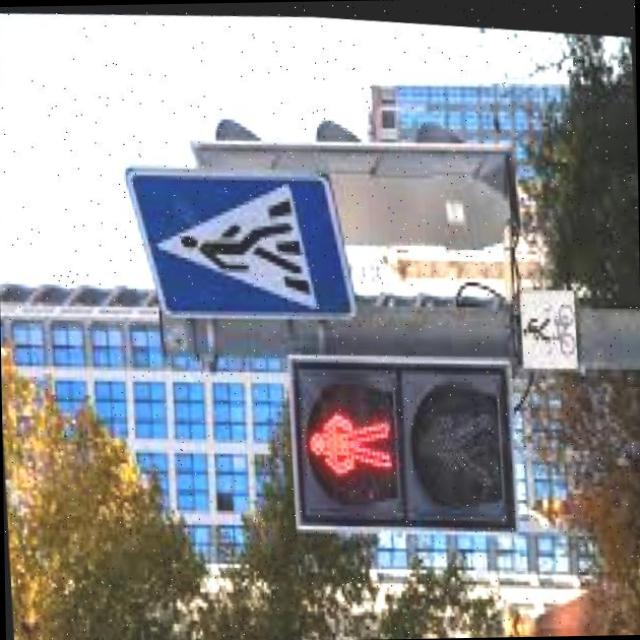red_light: (302, 391, 400, 489)
